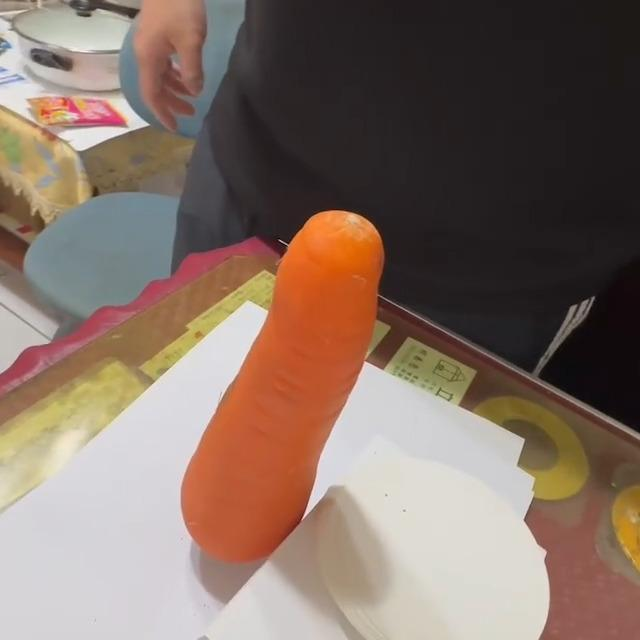carrot: (177, 210, 387, 559)
